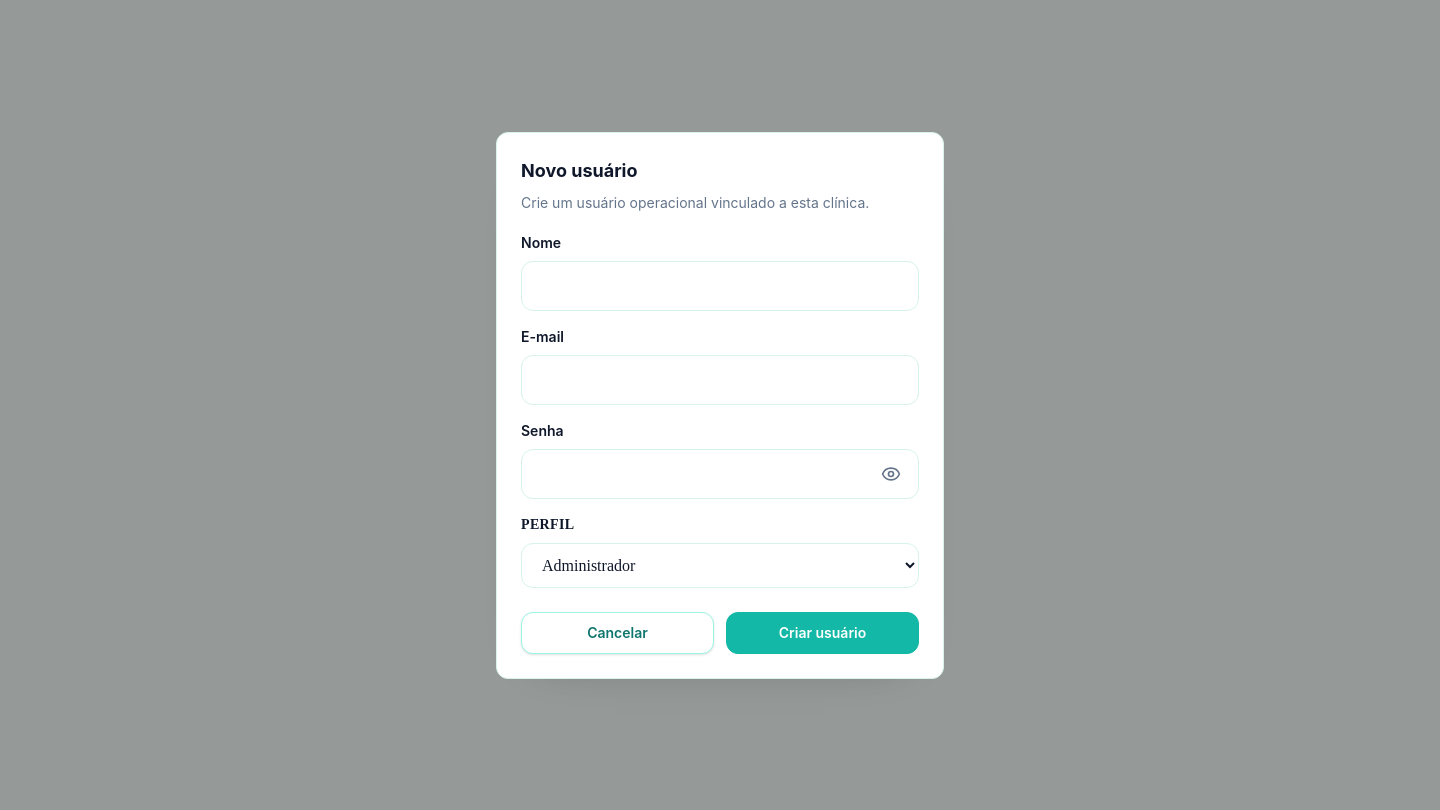
Test case: CreateClinicUserDialog › validates required user fields before submitting
Click the button "Criar usuário": point(822, 632) [726,612,919,654]
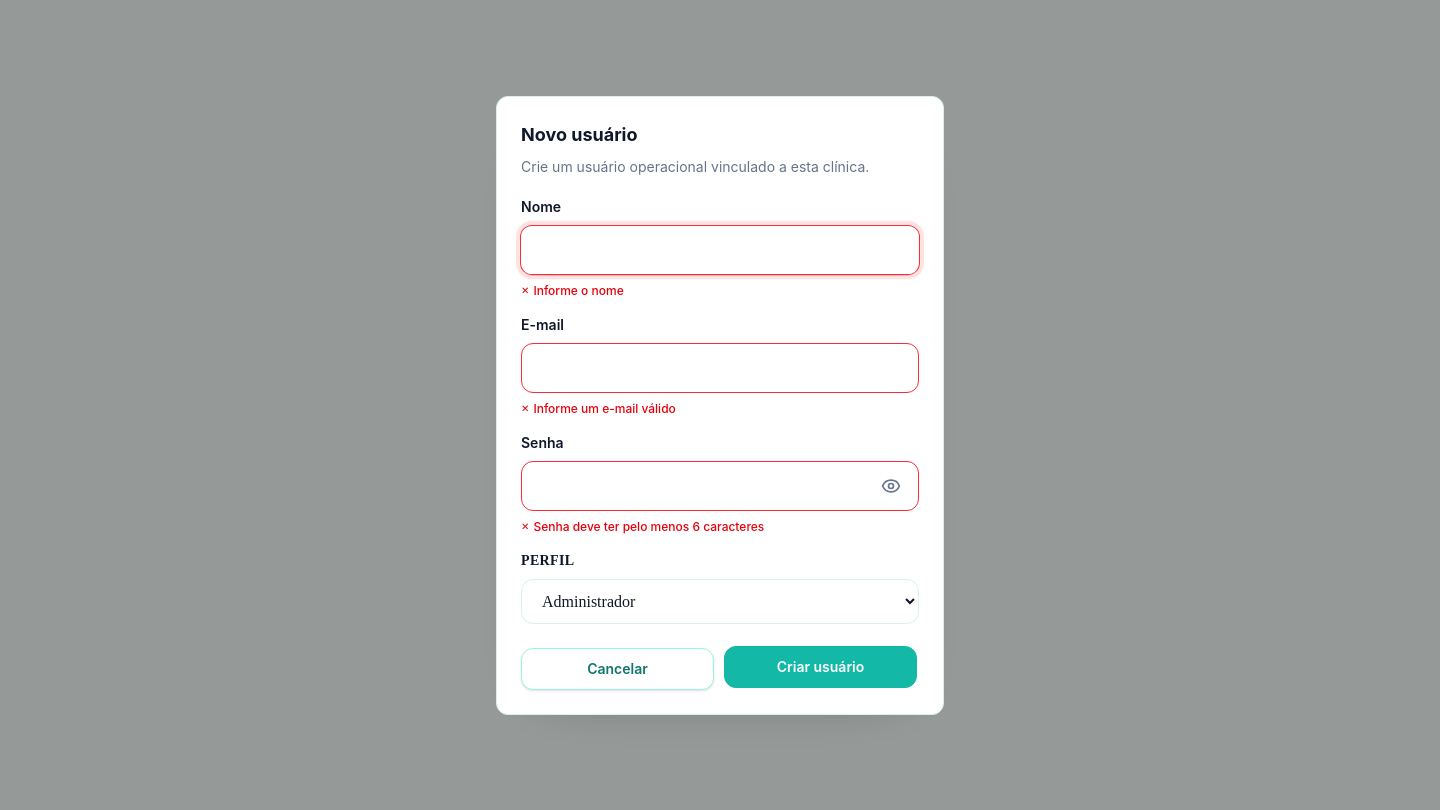
Result: the text "Informe o nome" is shown at [533,282,624,298]
Result: the text "Informe um e-mail válido" is shown at [533,400,676,416]
Result: the text "Senha deve ter pelo menos 6 caracteres" is shown at [533,518,764,534]
